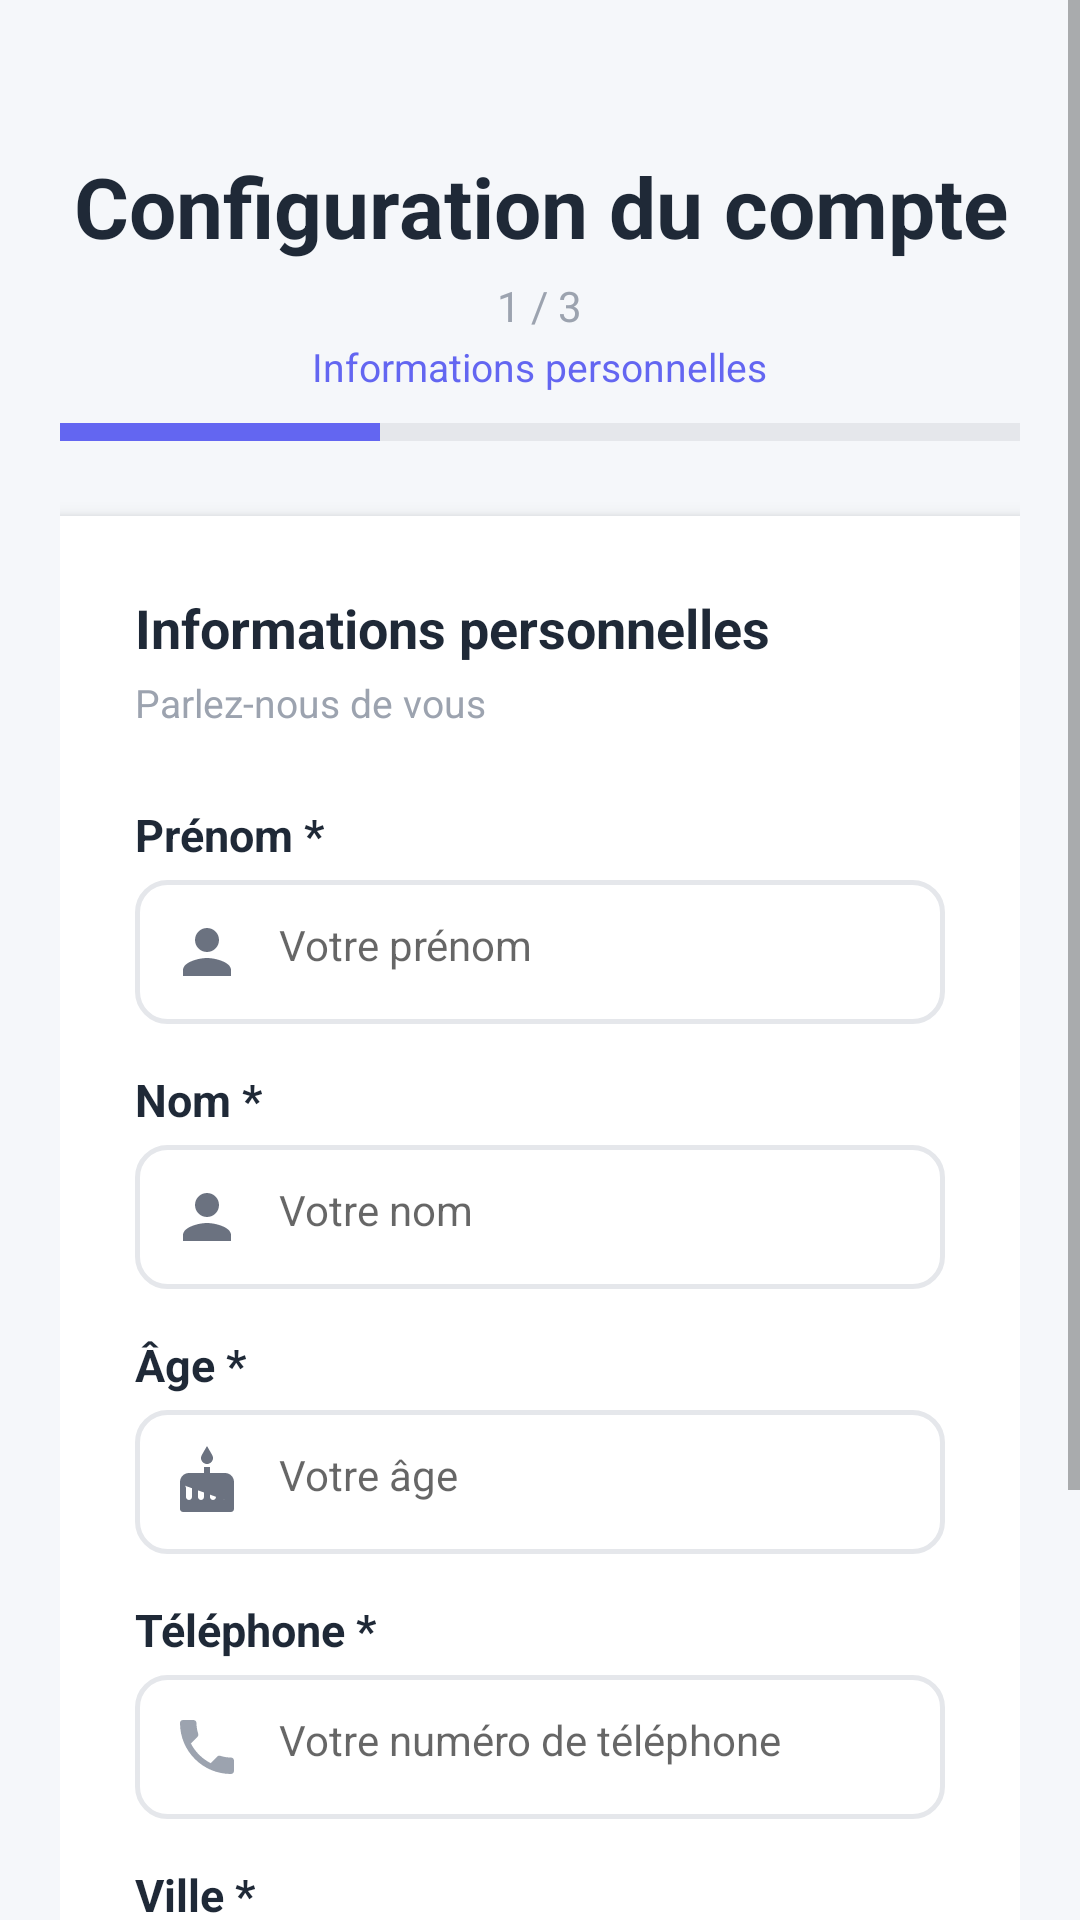

Named icons in this screenshot (1080x1920) and their centers, [x,y]:
cake: [207,1479]
person: [207,952], [207,1217]
